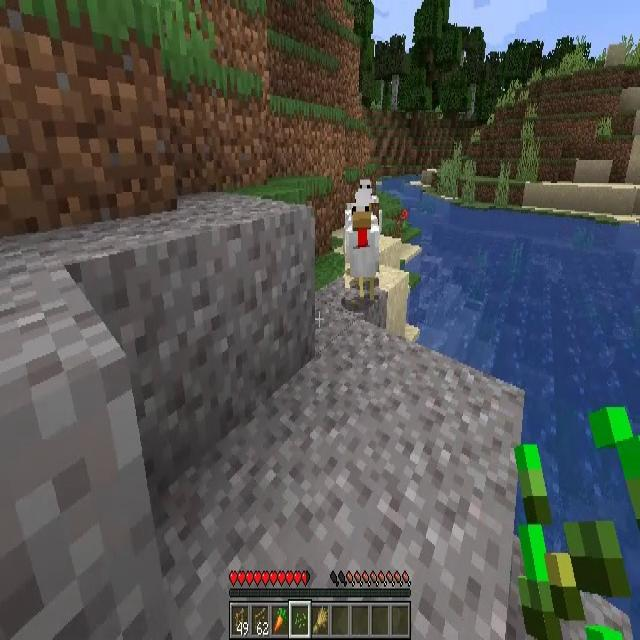duck: (346, 203, 380, 300)
